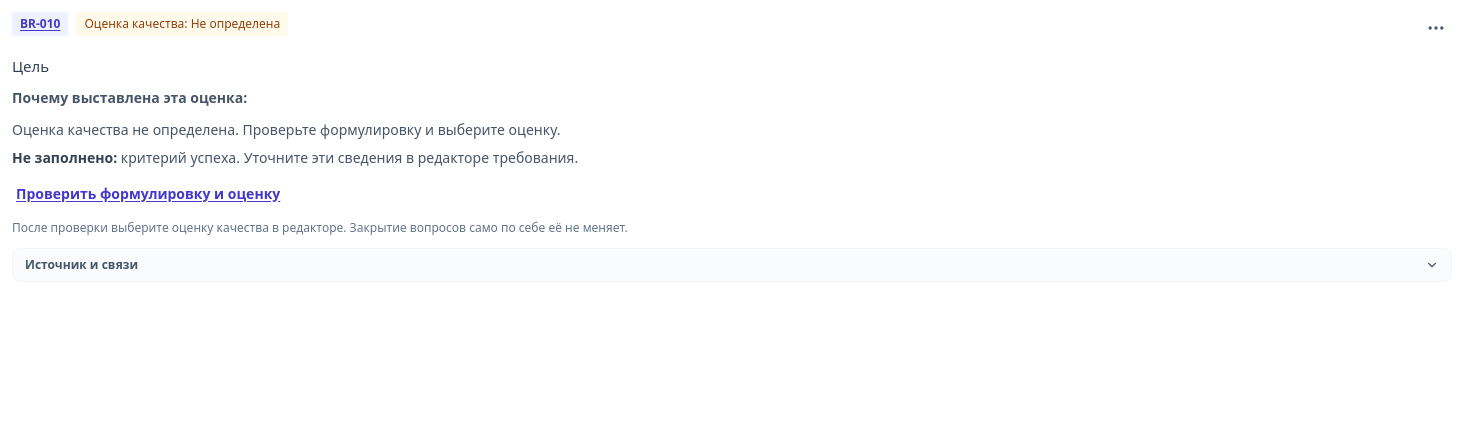
AsyncJobWorkspace presentational branches › covers BABOK relation editing and empty metadata fallbacks
Click the button named "Действия для BR-010" at (1436, 28), box [1426, 18, 1446, 38]
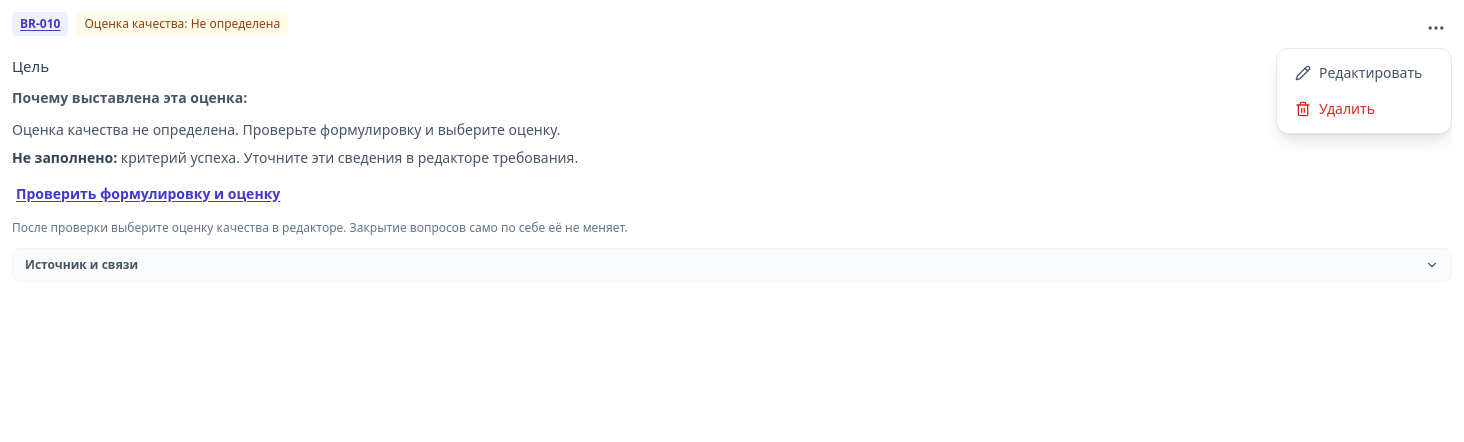
Click the button "Редактировать" at (1364, 73), box [1283, 55, 1445, 91]
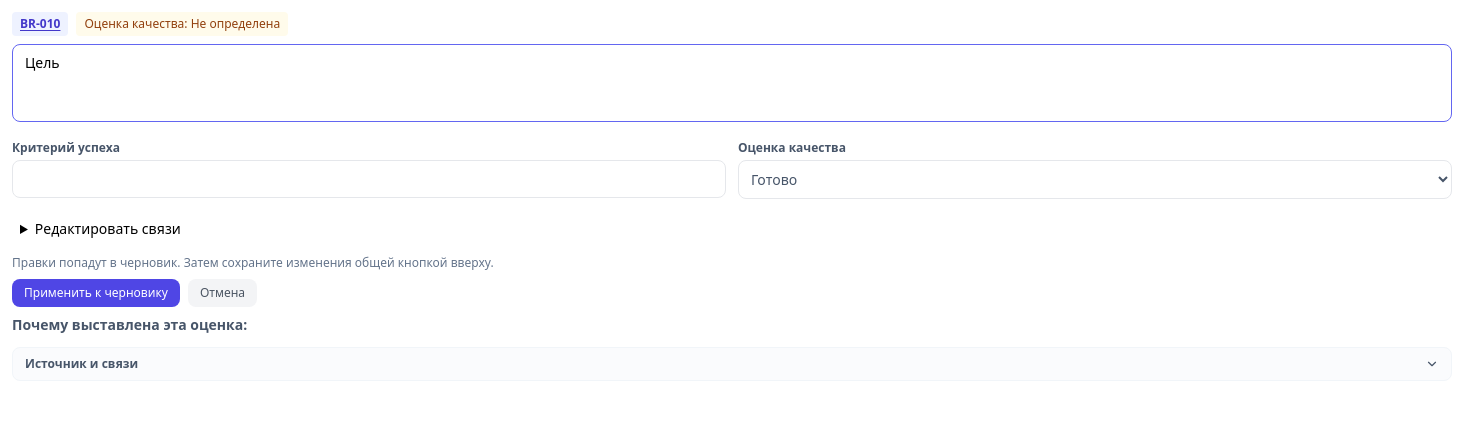
Click the heading "Редактировать связи" at (108, 228), box [35, 219, 181, 238]
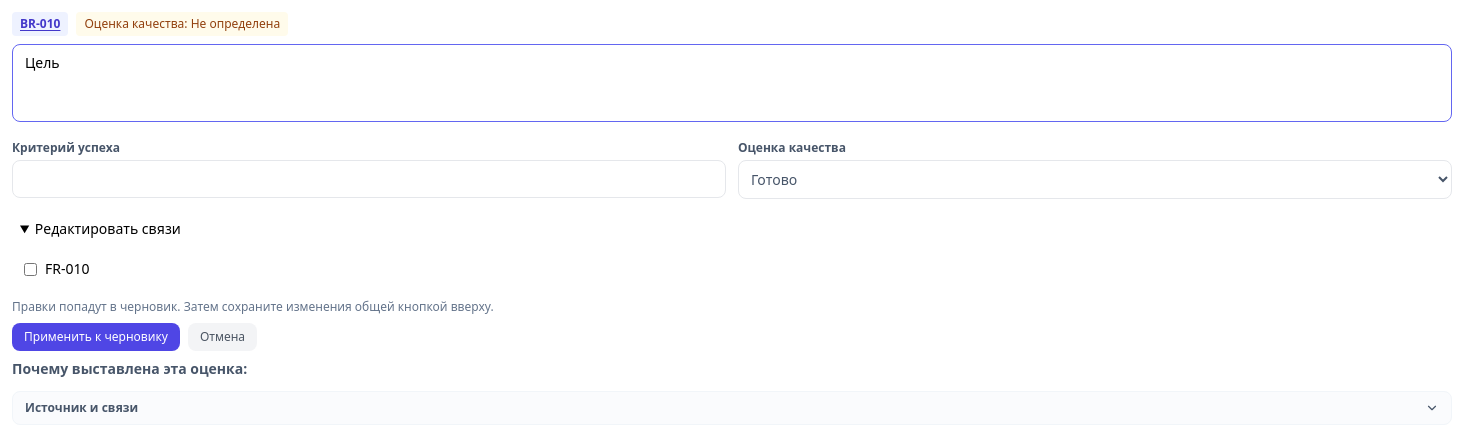
Click the checkbox labelled "FR-010" at (30, 269), box [24, 262, 37, 276]
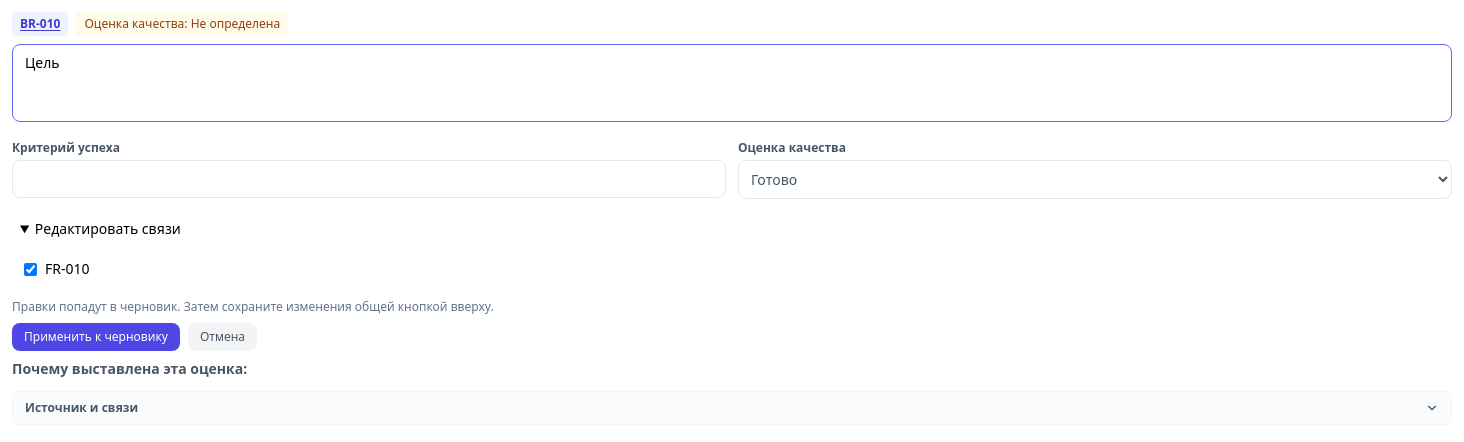
Click the button "Отмена" at (222, 337), box [188, 323, 257, 351]
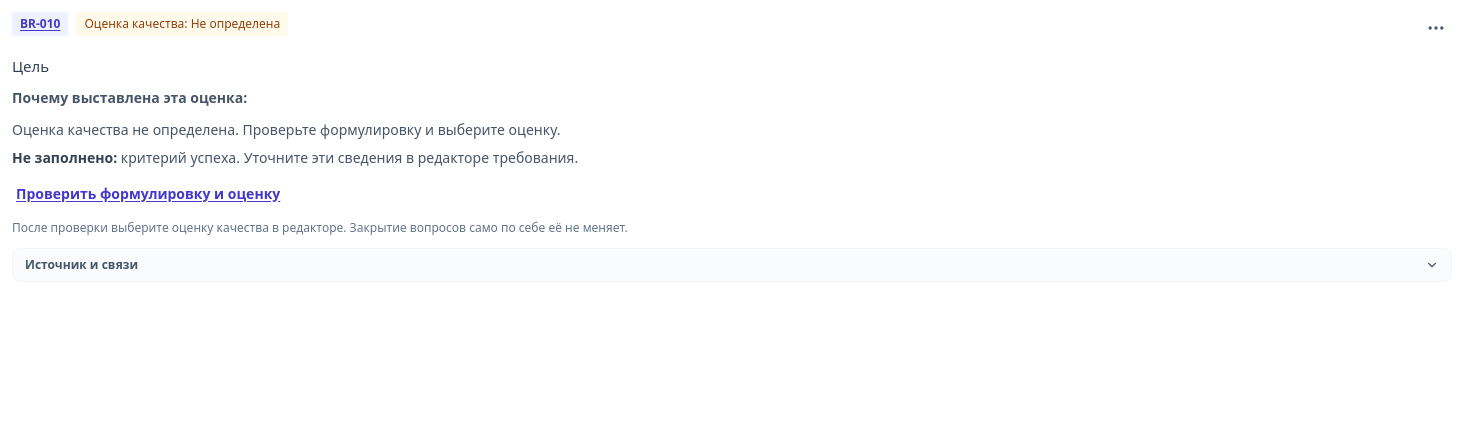
Check: the text "Цель" is shown, box [12, 56, 49, 76]
